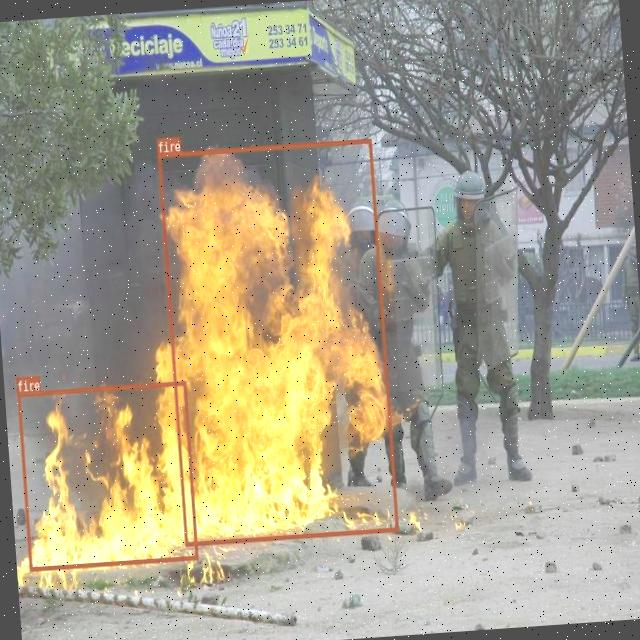fire: (157, 138, 398, 545), (16, 380, 198, 570)
